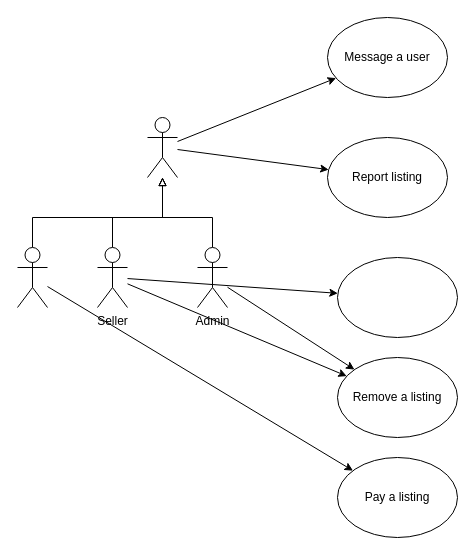
The diagram is 475 pixels wide and 555 high, and some of its shapes have lost their labels. The shapes that lost their labels are listed below. From the top down, each one's centre as x and y in pixels, then its label:
At point (162, 147): "User".
At point (32, 277): "Buyer".
At point (397, 297): "Make a listing".
